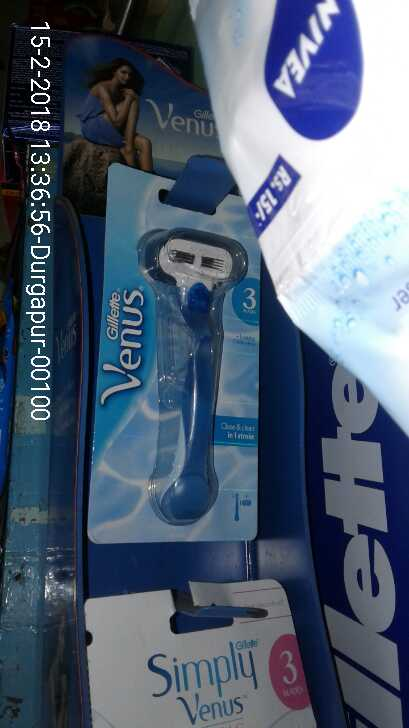venus: (97, 164, 267, 537)
